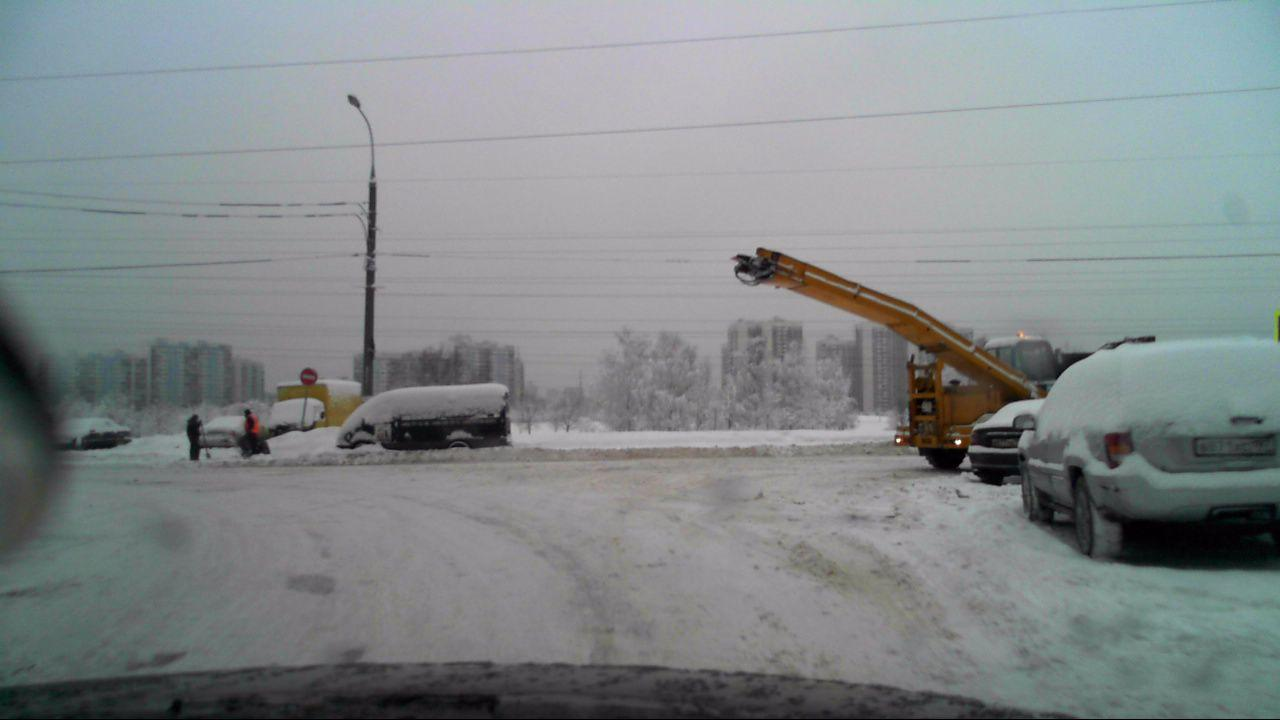3_1: (299, 365, 319, 387)
